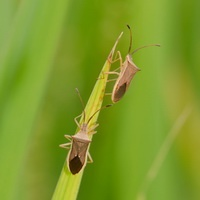insect: (59, 104, 111, 174), (112, 25, 159, 102)
